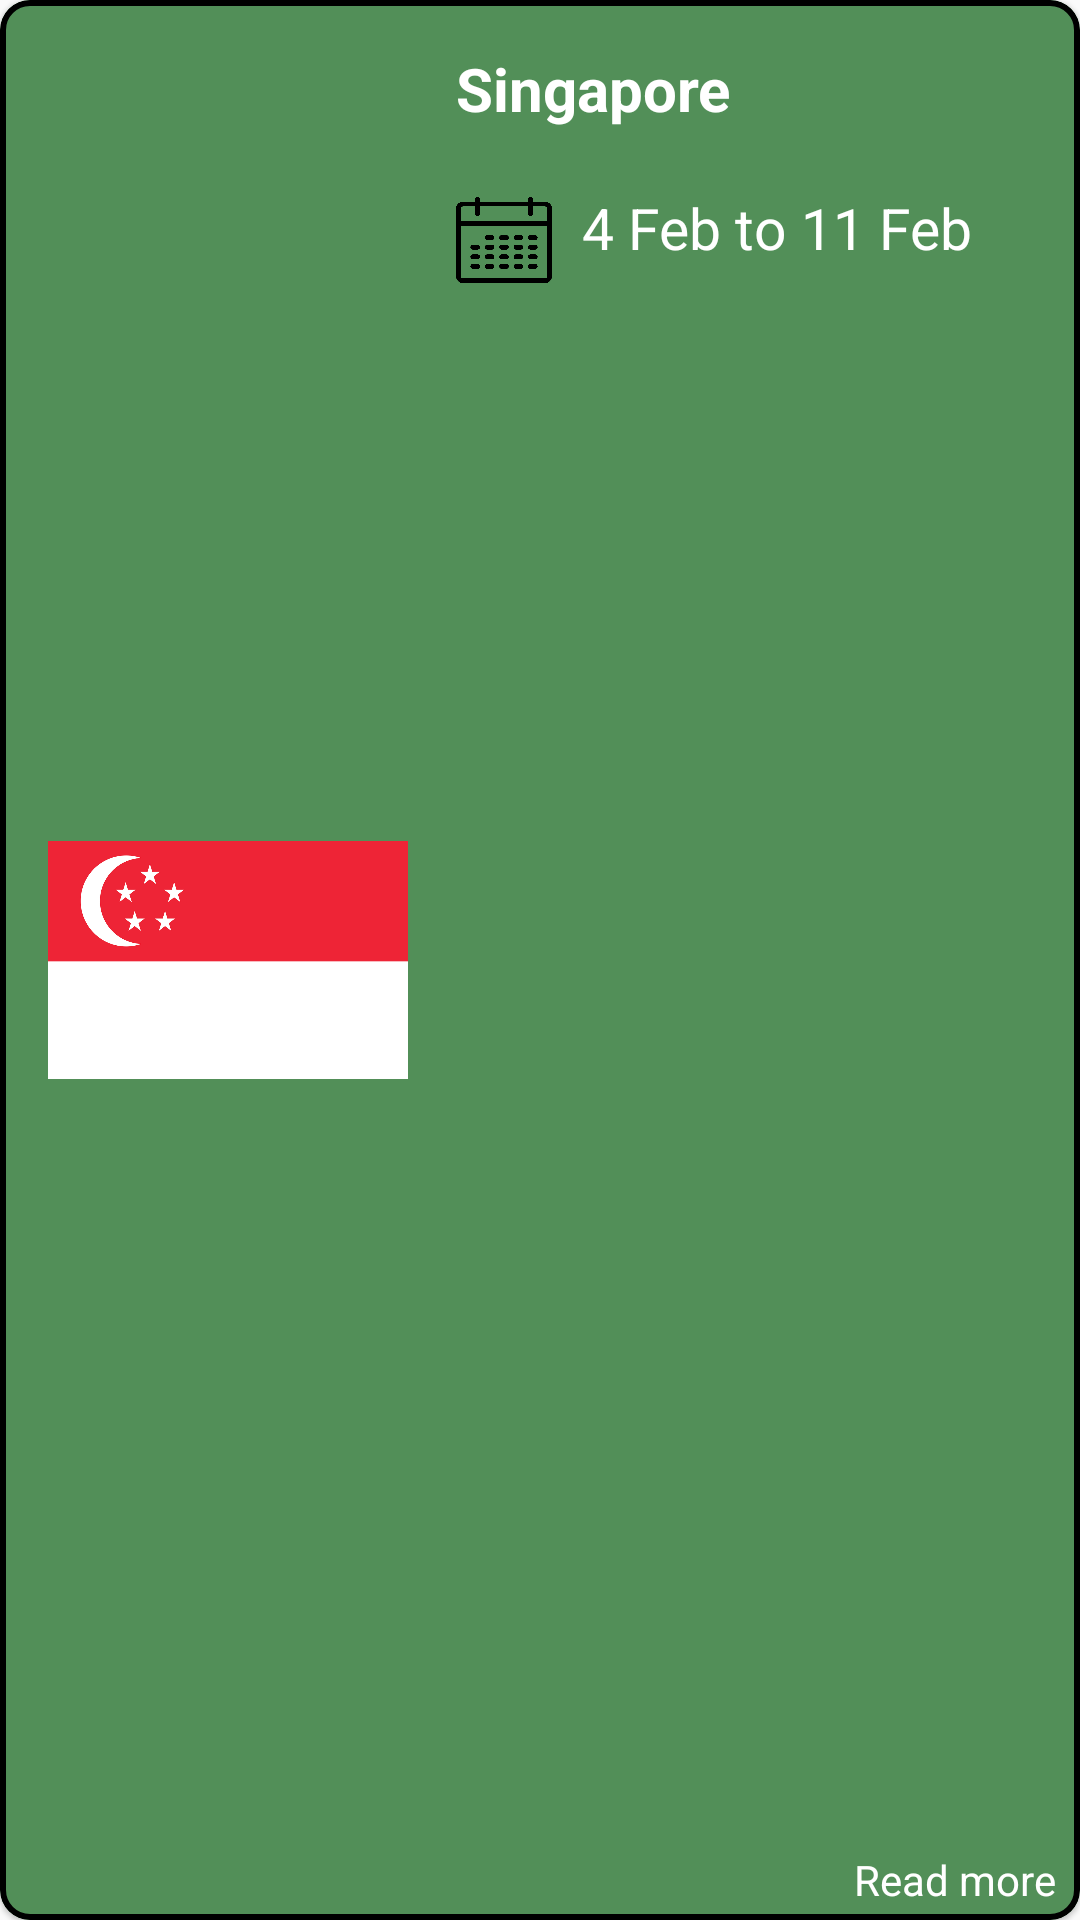

Icons on this 1080*1920 Android screen, each with the point to tap as (x,y):
calendar: (504,240)
flag singapore: (228,960)
